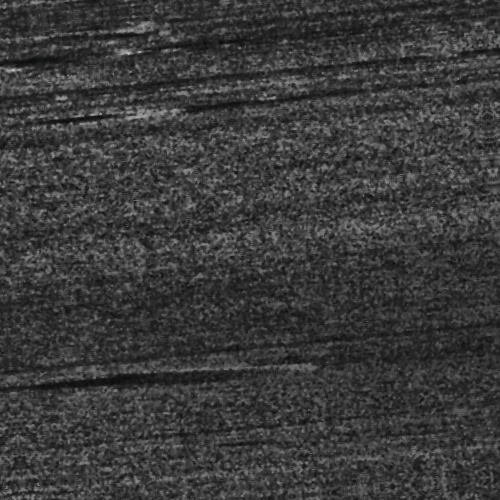object: (88, 33, 171, 40), (131, 97, 204, 102), (212, 360, 243, 367)
shadow: (59, 33, 129, 40), (99, 97, 167, 102), (203, 360, 227, 367)
